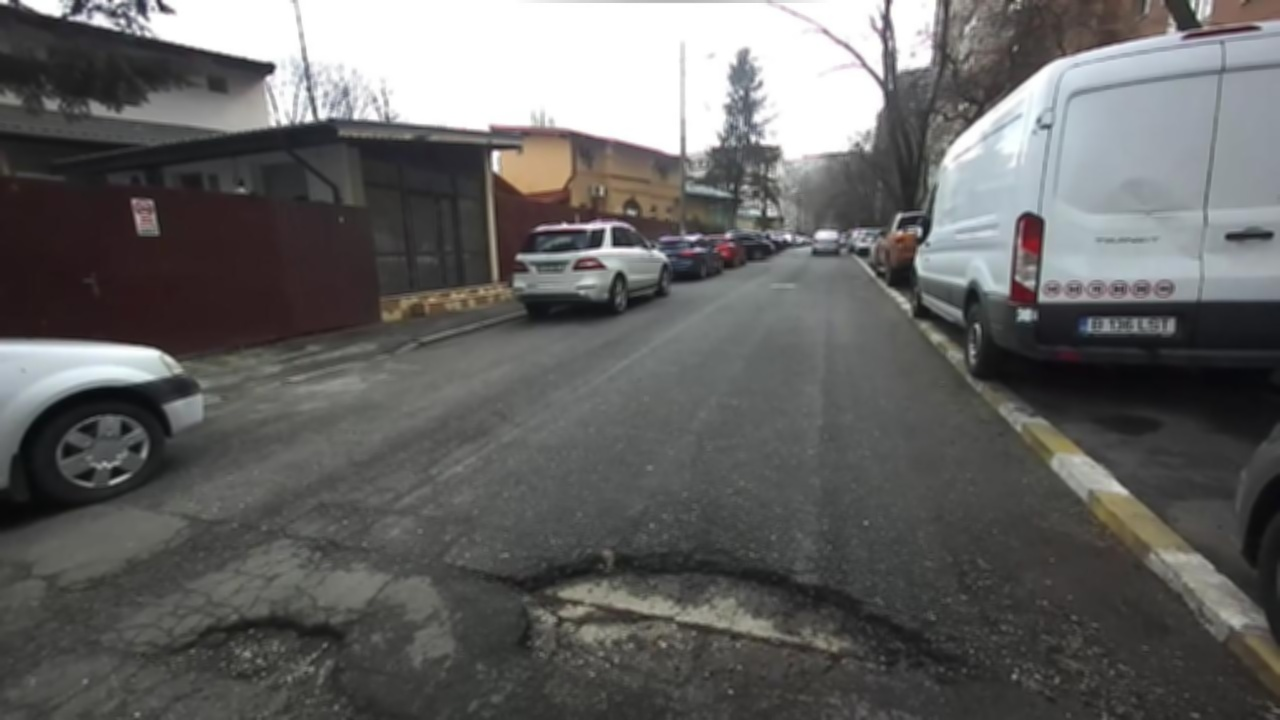pothole: (467, 536, 999, 711), (148, 612, 374, 707)
